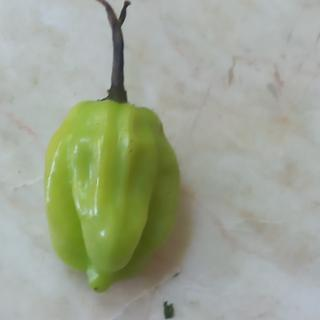Grade-A: (41, 98, 183, 295)
